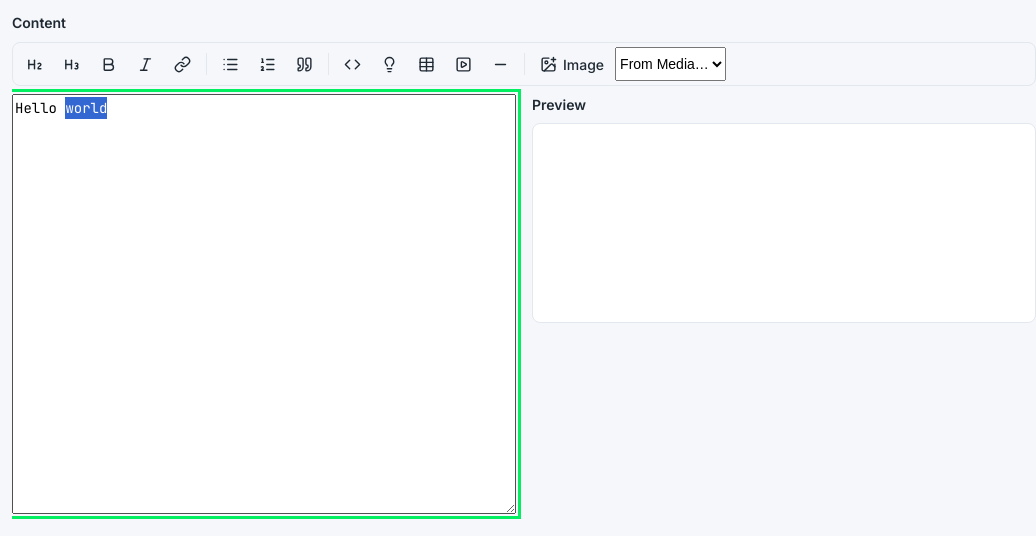
Test: bold wraps the selected words
What coordinates should you click on to do the following:
click the button named "Bold (Ctrl+B)"
I would click on:
 (108, 64)
Its box is x1=91 y1=47 x2=126 y2=81.
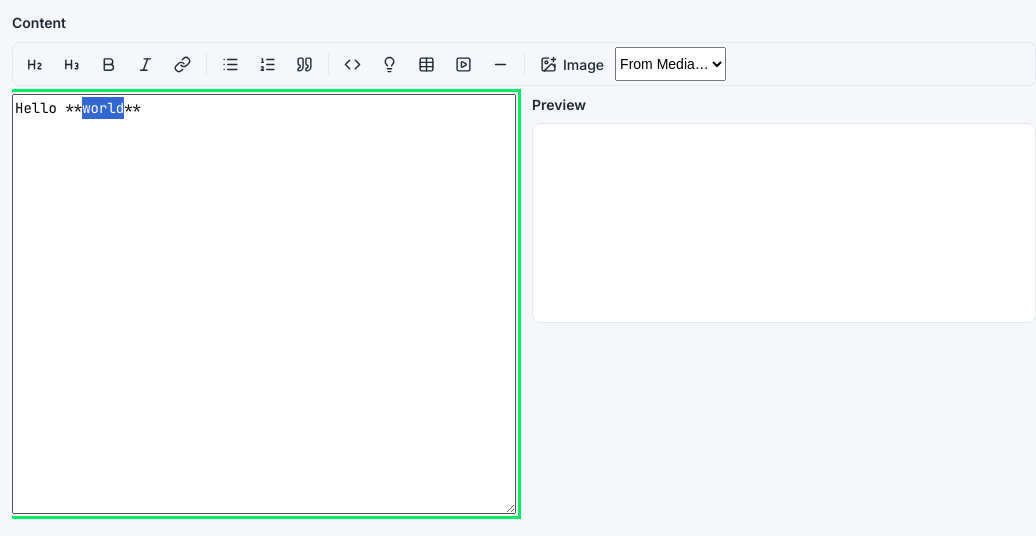
Expected: the text box labelled "Content" holds "Hello **world**", x1=12 y1=94 x2=516 y2=514
